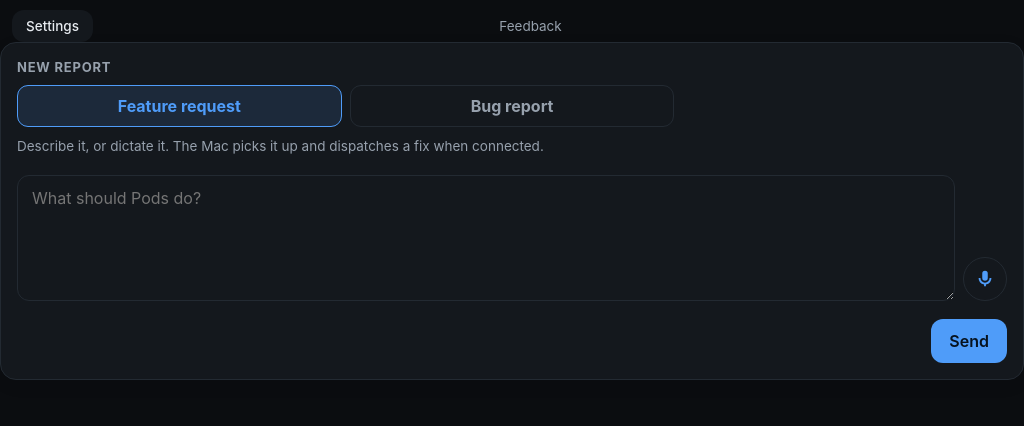
it: shows a denial without starting a recording
The image size is (1024, 426).
Click the button named "Dictate a report". click: (985, 279)
box: x1=963 y1=257 x2=1007 y2=301
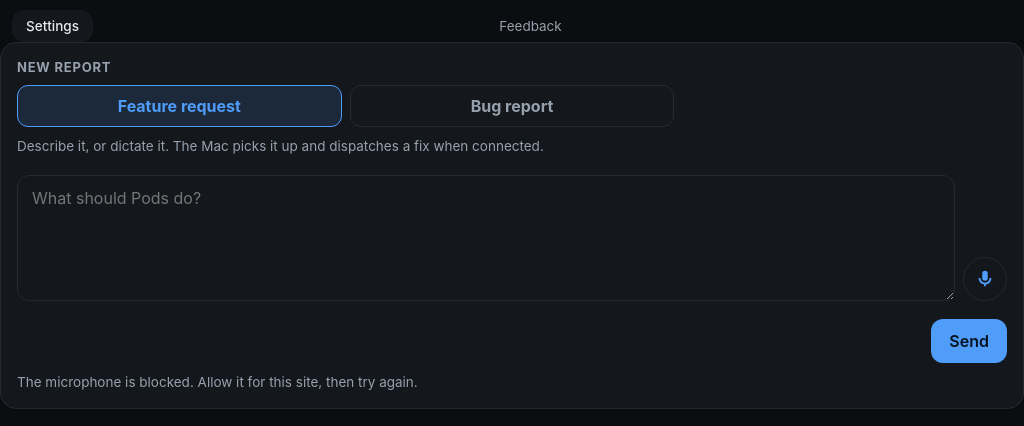
Expected: the text "The microphone is blocked. Allow it for this site, then try again." is shown, x1=17 y1=374 x2=418 y2=390
